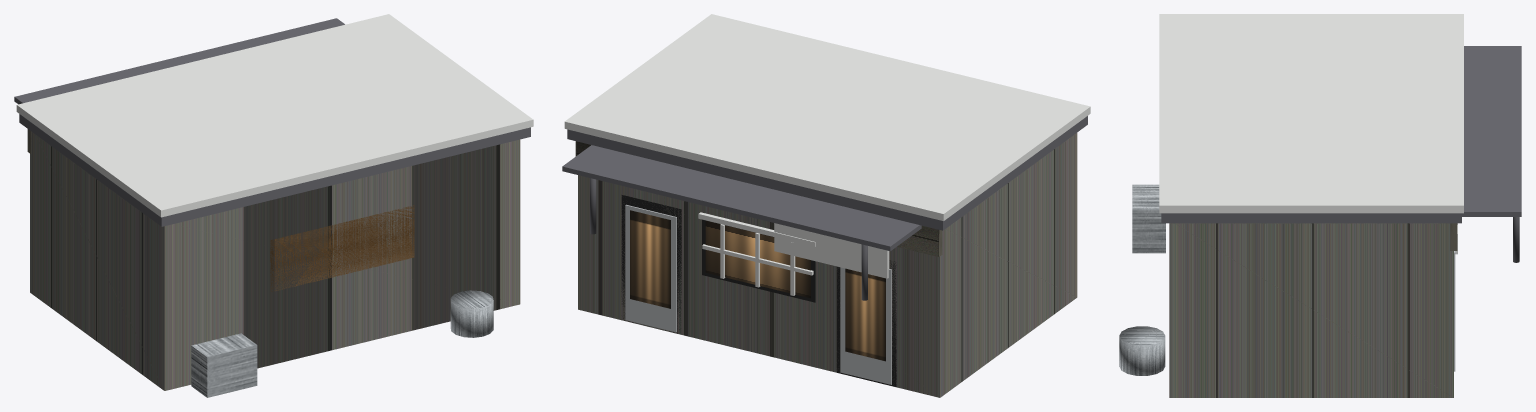
Rendered from WK_ARCH_LaundryBlock.glb.
3 views of the same model, side by side, from view 1: azimuth 30°, elevation 25°; view 2: azimuth 150°, elevation 25°; view 3: azimuth 270°, elevation 25° (orthographic). The views are drawn at different scales.
Parts seen in each view (by area): view 1: WK_ARCH_LaundryBlock_P01, WK_ARCH_LaundryBlock_P03, WK_ARCH_LaundryBlock_P18, WK_ARCH_LaundryBlock_P02, WK_ARCH_LaundryBlock_P25, WK_ARCH_LaundryBlock_P21, WK_ARCH_LaundryBlock_P24; view 2: WK_ARCH_LaundryBlock_P03, WK_ARCH_LaundryBlock_P01, WK_ARCH_LaundryBlock_P21, WK_ARCH_LaundryBlock_P02, WK_ARCH_LaundryBlock_P12, WK_ARCH_LaundryBlock_P10, WK_ARCH_LaundryBlock_P07, WK_ARCH_LaundryBlock_P20, WK_ARCH_LaundryBlock_P09, WK_ARCH_LaundryBlock_P06, WK_ARCH_LaundryBlock_P08, WK_ARCH_LaundryBlock_P05 (+4 smaller); view 3: WK_ARCH_LaundryBlock_P03, WK_ARCH_LaundryBlock_P01, WK_ARCH_LaundryBlock_P21, WK_ARCH_LaundryBlock_P02, WK_ARCH_LaundryBlock_P25, WK_ARCH_LaundryBlock_P24.
Part boxes in pixels (x1,y1,x2,y2): WK_ARCH_LaundryBlock_P01: (30, 131, 520, 390); WK_ARCH_LaundryBlock_P03: (16, 14, 533, 217); WK_ARCH_LaundryBlock_P18: (270, 205, 414, 291); WK_ARCH_LaundryBlock_P02: (19, 114, 530, 226); WK_ARCH_LaundryBlock_P25: (191, 333, 257, 397); WK_ARCH_LaundryBlock_P21: (14, 18, 344, 104); WK_ARCH_LaundryBlock_P24: (450, 290, 493, 337); WK_ARCH_LaundryBlock_P03: (564, 14, 1090, 220); WK_ARCH_LaundryBlock_P01: (578, 133, 1077, 397); WK_ARCH_LaundryBlock_P21: (562, 145, 921, 251); WK_ARCH_LaundryBlock_P02: (567, 116, 1087, 230); WK_ARCH_LaundryBlock_P12: (705, 220, 810, 298); WK_ARCH_LaundryBlock_P10: (630, 210, 670, 308); WK_ARCH_LaundryBlock_P07: (845, 268, 885, 361); WK_ARCH_LaundryBlock_P20: (774, 223, 889, 278); WK_ARCH_LaundryBlock_P09: (625, 204, 676, 332); WK_ARCH_LaundryBlock_P06: (840, 267, 891, 384); WK_ARCH_LaundryBlock_P08: (621, 195, 681, 333); WK_ARCH_LaundryBlock_P05: (836, 260, 896, 387); WK_ARCH_LaundryBlock_P03: (1159, 14, 1463, 213); WK_ARCH_LaundryBlock_P01: (1169, 223, 1453, 397); WK_ARCH_LaundryBlock_P21: (1462, 46, 1521, 216); WK_ARCH_LaundryBlock_P02: (1161, 213, 1461, 223); WK_ARCH_LaundryBlock_P25: (1132, 184, 1165, 253); WK_ARCH_LaundryBlock_P24: (1119, 326, 1165, 375).
Size of the model in its own units: 6.7 by 3.2 by 5.94.
11 materials, 6 textured.
